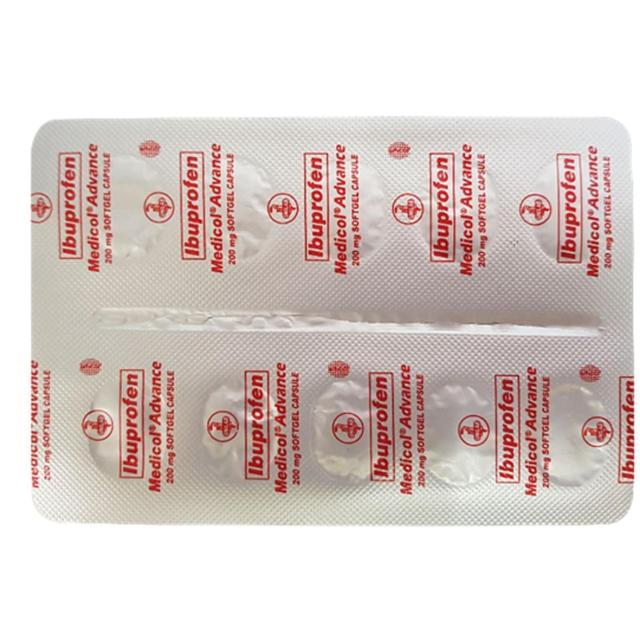blister: (17, 109, 638, 534)
